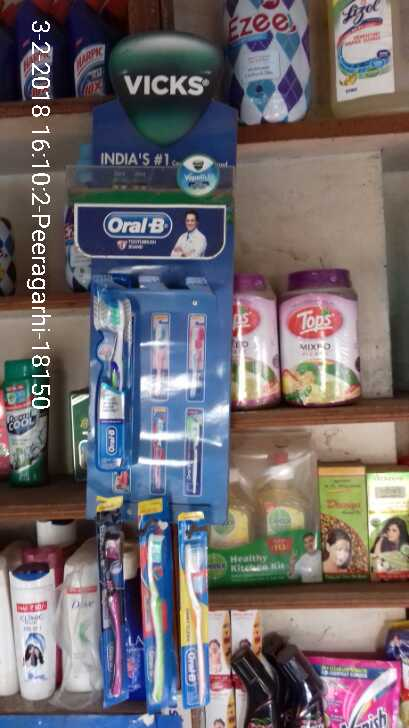oralb: (90, 273, 132, 475), (137, 495, 174, 712), (96, 495, 129, 702), (176, 512, 210, 706)
